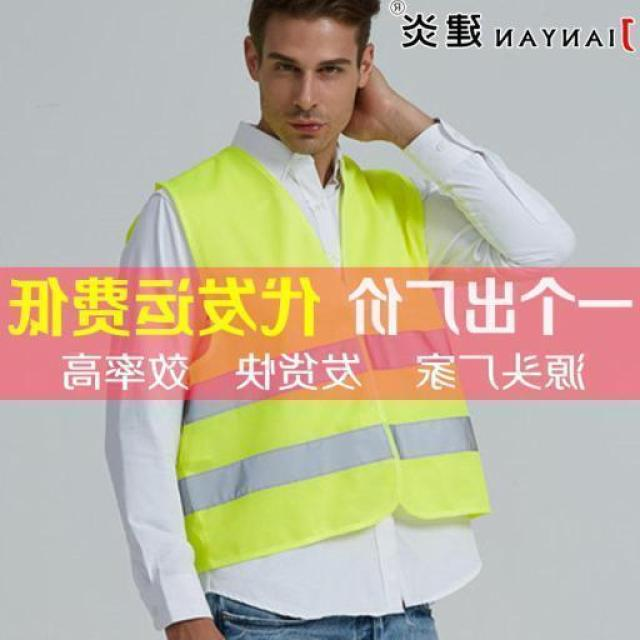face_nomask: (258, 48, 356, 142)
person: (96, 0, 582, 640)
vest: (154, 142, 494, 570)
